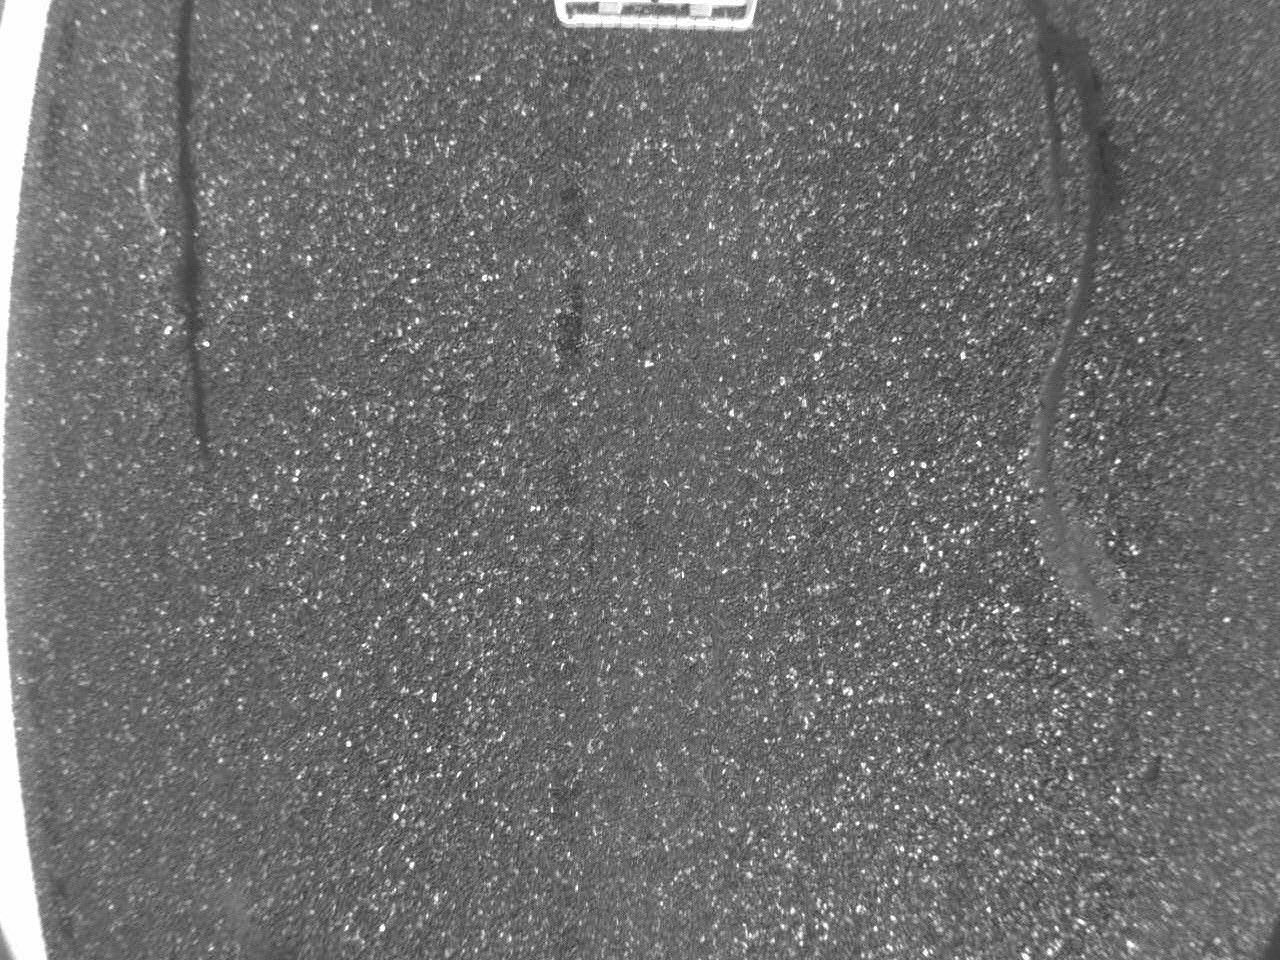sealed: (1004, 12, 1129, 630)
